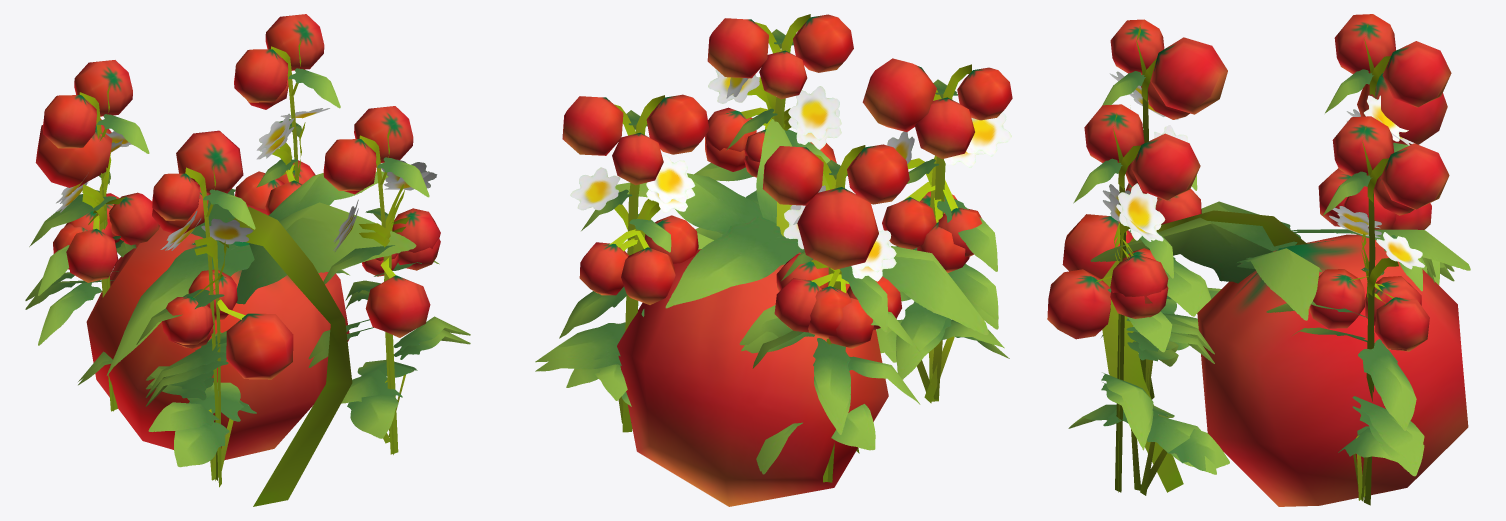
Rendered from Tomato_Stages.fbx.
3 views of the same model, side by side, from view 1: azimuth 30°, elevation 25°; view 2: azimuth 150°, elevation 25°; view 3: azimuth 270°, elevation 25° (orthographic). The views are drawn at different scales.
Parts seen in each view (by area): view 1: Tomato_Prized, Tomato_5, Tomato_4, Tomato_3, Tomato_1, Tomato_2; view 2: Tomato_Prized, Tomato_5, Tomato_4, Tomato_3, Tomato_2, Tomato_1; view 3: Tomato_Prized, Tomato_5, Tomato_4, Tomato_3, Tomato_1, Tomato_2.
Boxes of the visible parts, x1,y1,x2,y2 form: Tomato_Prized: (86,171,416,506); Tomato_5: (29,14,439,486); Tomato_4: (25,108,470,486); Tomato_3: (25,125,470,464); Tomato_1: (78,360,417,480); Tomato_2: (78,351,416,480); Tomato_Prized: (615,119,988,506); Tomato_5: (559,14,1012,482); Tomato_4: (535,77,1011,425); Tomato_3: (535,69,998,482); Tomato_2: (594,319,1004,471); Tomato_1: (566,319,1009,474); Tomato_Prized: (1090,201,1470,506); Tomato_5: (1073,14,1451,505); Tomato_4: (1047,71,1454,498); Tomato_3: (1101,89,1454,486); Tomato_1: (1068,313,1396,500); Tomato_2: (1103,299,1369,501).
Bounding box in the file's own units: 164 × 160 × 153.
